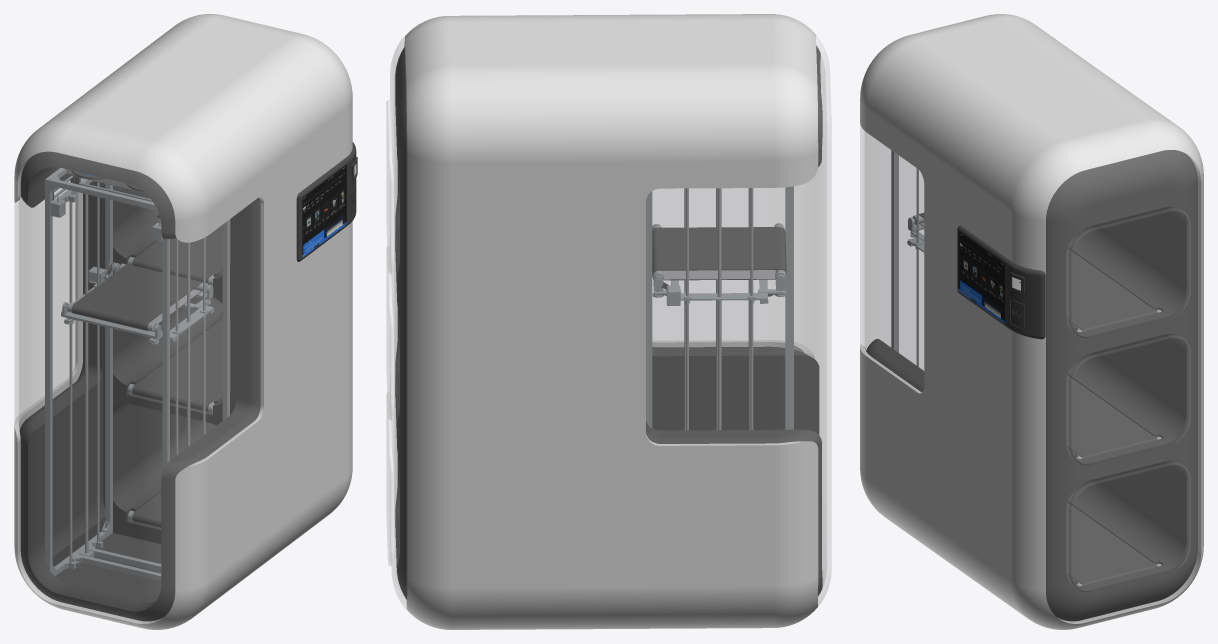
File: project8.glb
3 renders of one model, left to right at view 1: azimuth 30°, elevation 25°; view 2: azimuth 150°, elevation 25°; view 3: azimuth 270°, elevation 25°, orthographic. The views are drawn at different scales.
Parts seen in each view (by area): view 1: Mesh_6.001, Mesh_8.001, Mesh_1.002, Mesh_0.002, Mesh_4.001, Mesh_2.001, Mesh_9, Mesh_1.001; view 2: Mesh_8.001, Mesh_6.001, Mesh_1.002, Mesh_6.002, Mesh_0.002, Mesh_4.001, Mesh_5.001; view 3: Mesh_8.001, Mesh_6.002, Mesh_1.002, Mesh_6.001, Mesh_4.001, Mesh_1.001, Mesh_9, Mesh_0.002.
Part boxes in pixels (bbox=[...]): Mesh_6.001: bbox=[14, 152, 356, 623]; Mesh_8.001: bbox=[14, 14, 352, 629]; Mesh_1.002: bbox=[19, 151, 260, 621]; Mesh_0.002: bbox=[45, 167, 229, 581]; Mesh_4.001: bbox=[71, 219, 230, 527]; Mesh_2.001: bbox=[55, 533, 161, 611]; Mesh_9: bbox=[302, 165, 346, 257]; Mesh_1.001: bbox=[296, 142, 357, 261]; Mesh_8.001: bbox=[404, 14, 818, 629]; Mesh_6.001: bbox=[646, 35, 831, 605]; Mesh_1.002: bbox=[395, 45, 822, 599]; Mesh_6.002: bbox=[386, 37, 406, 609]; Mesh_0.002: bbox=[646, 186, 793, 430]; Mesh_4.001: bbox=[652, 227, 786, 289]; Mesh_5.001: bbox=[663, 270, 775, 279]; Mesh_8.001: bbox=[860, 14, 1203, 629]; Mesh_6.002: bbox=[1046, 150, 1201, 623]; Mesh_1.002: bbox=[866, 150, 1197, 621]; Mesh_6.001: bbox=[860, 125, 1020, 393]; Mesh_4.001: bbox=[919, 213, 1157, 585]; Mesh_1.001: bbox=[957, 225, 1045, 339]; Mesh_9: bbox=[958, 231, 1004, 323]; Mesh_0.002: bbox=[891, 150, 1161, 585].
Bounding box in the file's own units: 0.2394 × 0.3177 × 0.2042.
Materials: 13 (2 with a texture image).
